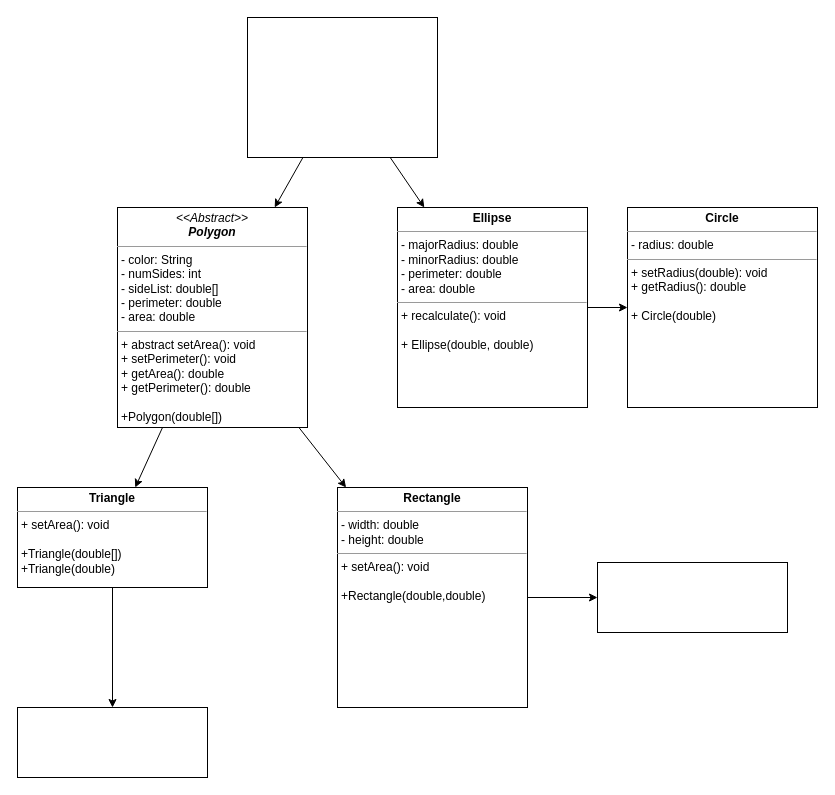
Some shapes in this 835 by 795 pixel diagram are drawn without their labels. The box of each missing label's shape, as (x1, y1, x2, y2) in pixels:
<<Interface>> Shape + getArea(): double + getPerimeter(): double: (246, 16, 438, 158)
IsocelesTriangle +Triangle(double, double): (16, 706, 208, 778)
Square + Square(double): (596, 562, 788, 632)
